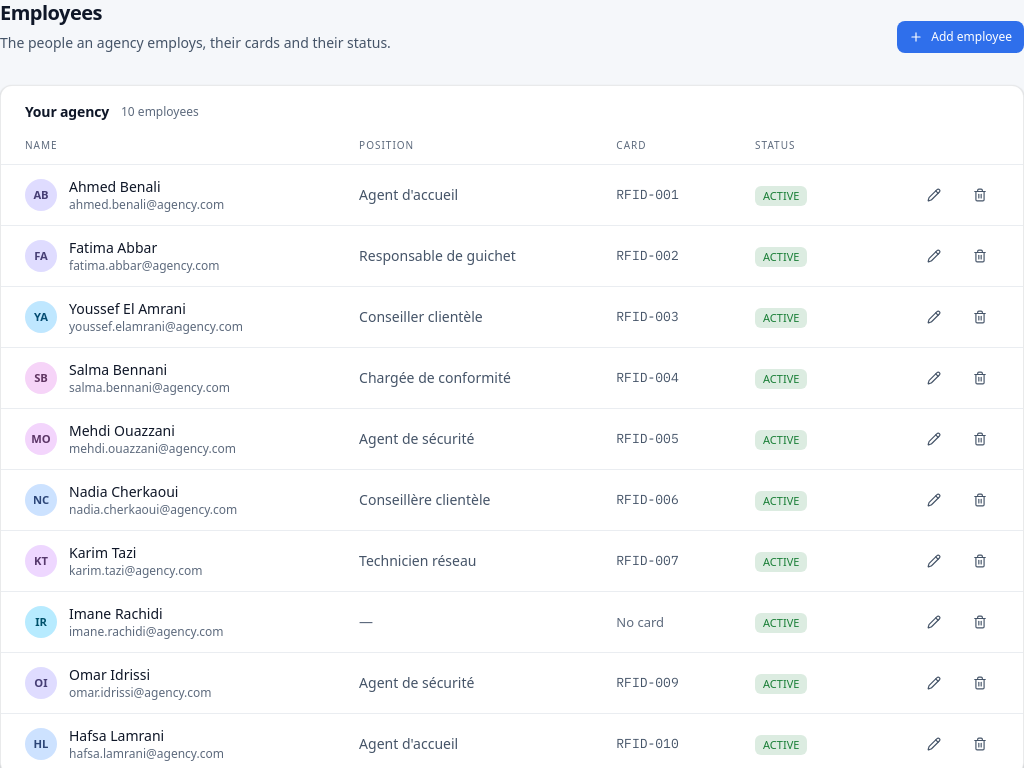
Test: Employees › warns that deleting destroys attendance history, and offers the safe path
This screenshot has width=1024, height=768.
Click the button named "delete ahmed benali".
click(980, 195)  # box [961,179,999,211]
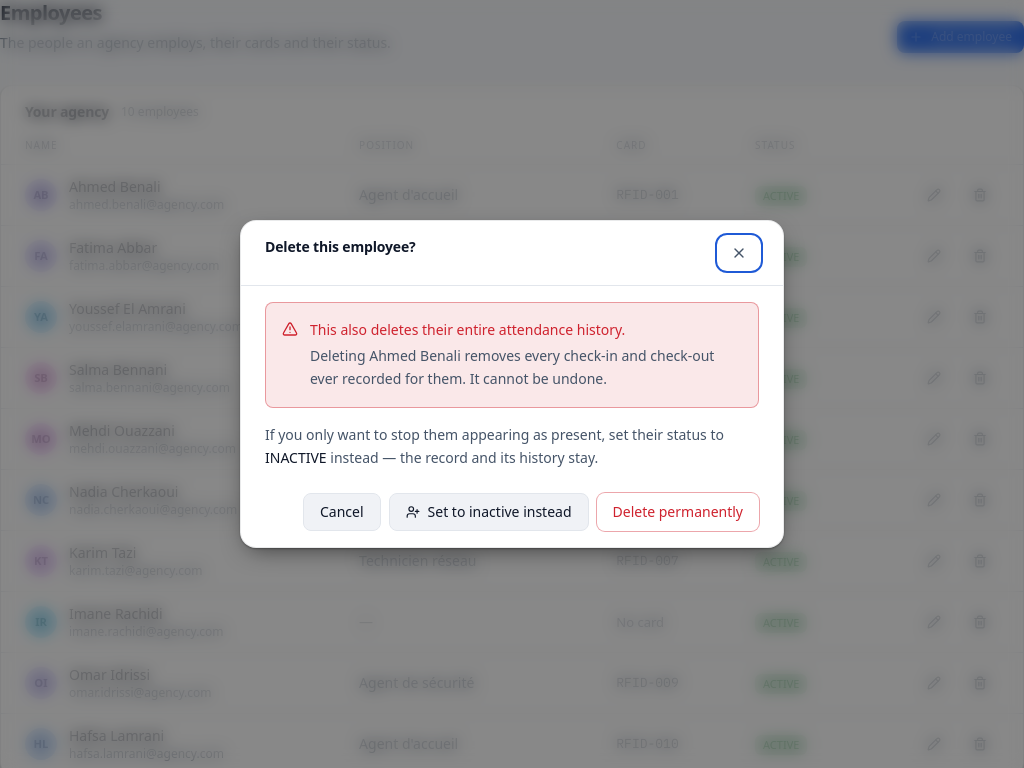
Expected: the text "This also deletes their entire attendance history." is shown, [310,320,625,339]
Expected: the button "Set to inactive instead" is shown, [389,493,589,531]
